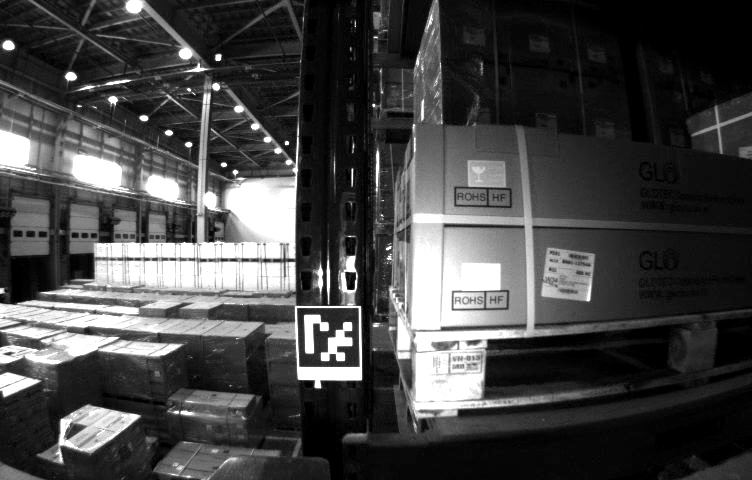True Barcode: (538, 246, 596, 310)
